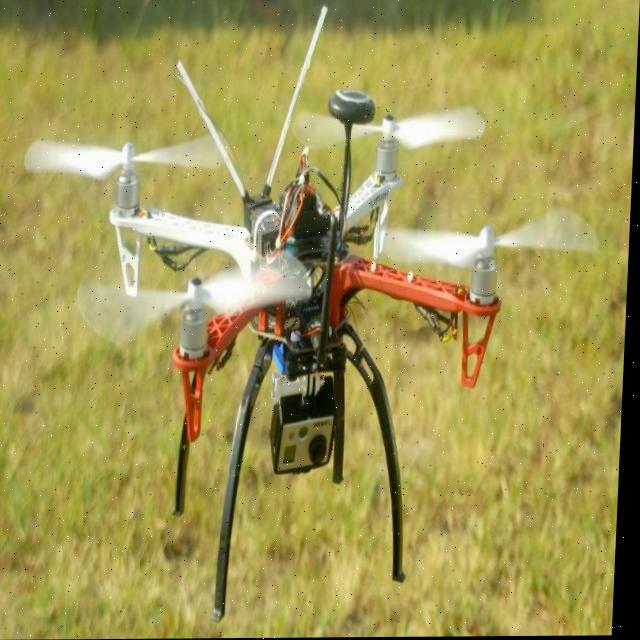drone: (0, 57, 586, 519)
